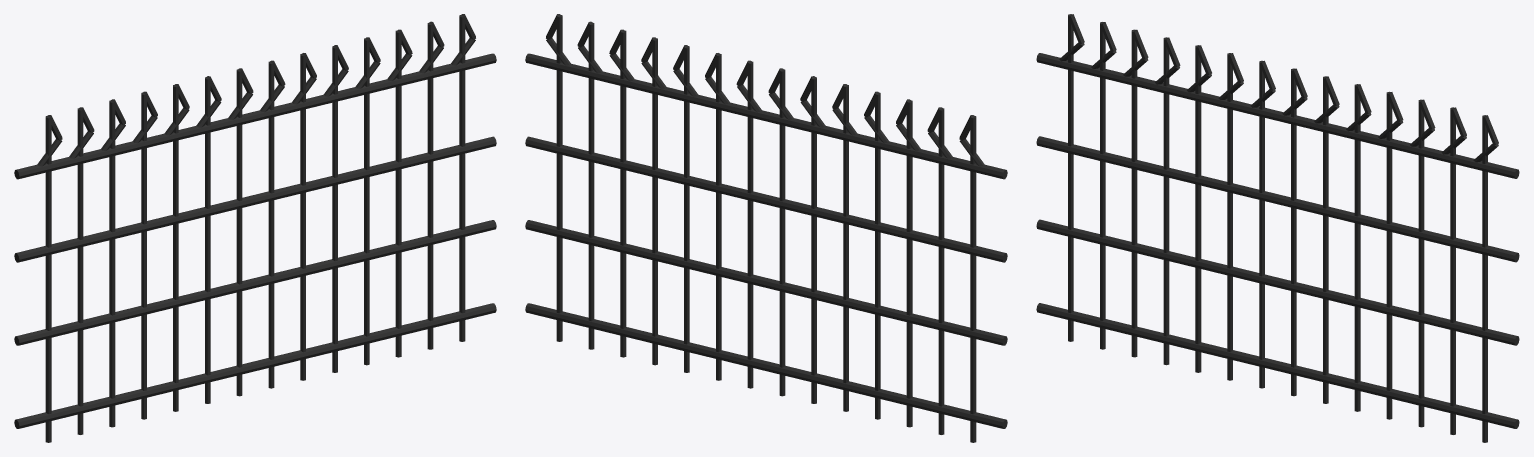
File: metal çit.fbx
The picture shows the model from 3 angles, left to right: view 1: azimuth 30°, elevation 25°; view 2: azimuth 150°, elevation 25°; view 3: azimuth 330°, elevation 25°; orthographic projection.
Parts seen in each view (by area): view 1: çit.001; view 2: çit.001; view 3: çit.001.
Boxes of the visible parts, box(x1,y1,x2,y2) form: çit.001: box(14, 14, 496, 442); çit.001: box(525, 14, 1007, 442); çit.001: box(1036, 14, 1519, 442).
Bounding box in the file's own units: 127 × 83.16 × 2.38.
Materials: 1 (1 with a texture image).
